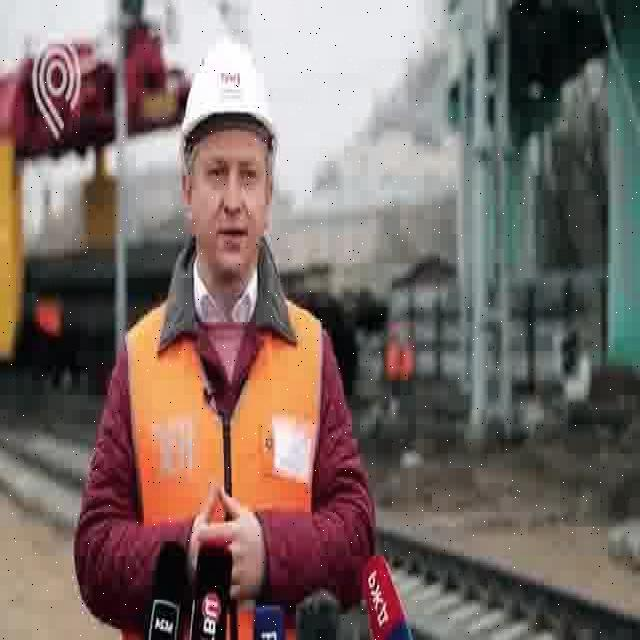Hard_hat: (176, 43, 278, 143)
Vest: (120, 307, 340, 533)
